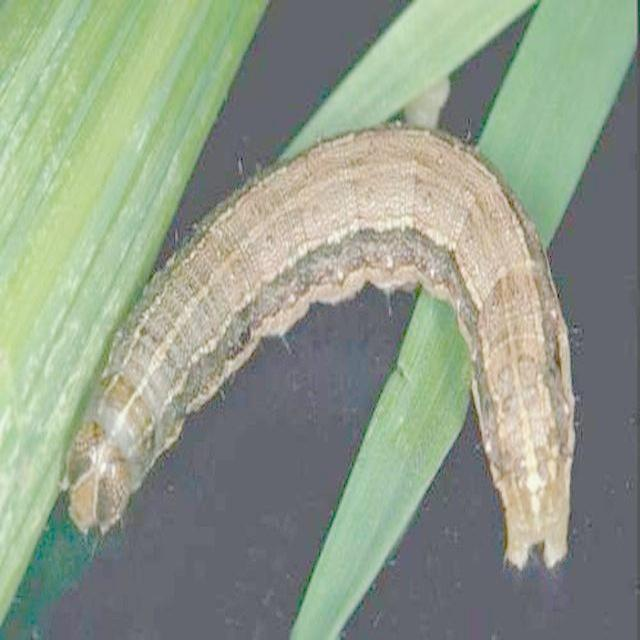gusano_cogollero: (68, 127, 570, 570)
